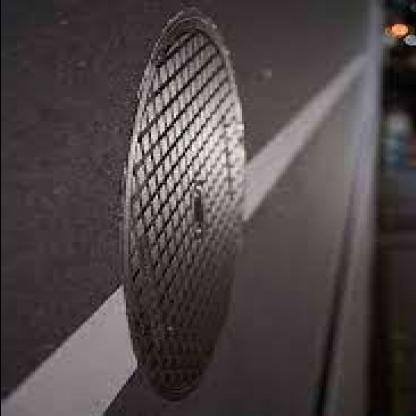manholes: (70, 3, 280, 408)
